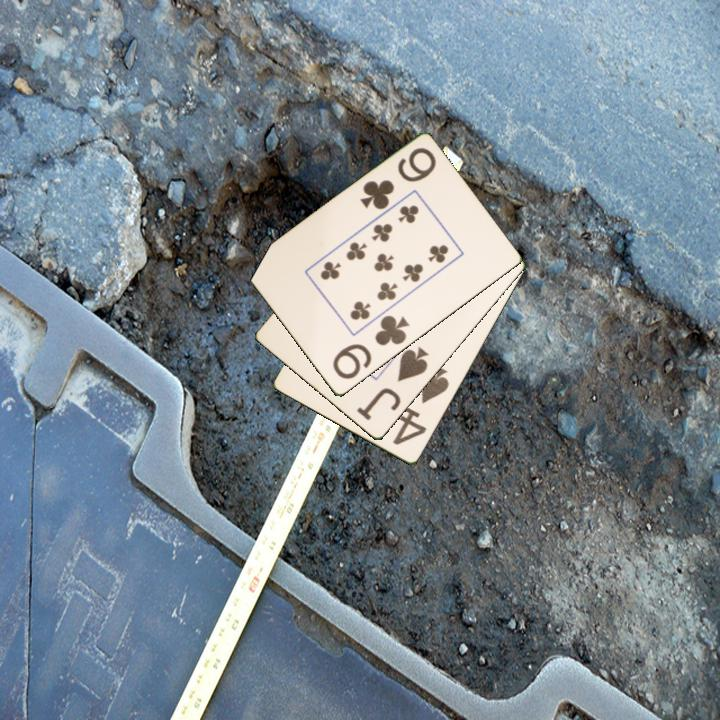4s: (389, 362, 452, 448)
9c: (329, 312, 412, 383), (356, 144, 439, 213)
Js: (353, 343, 431, 424)
